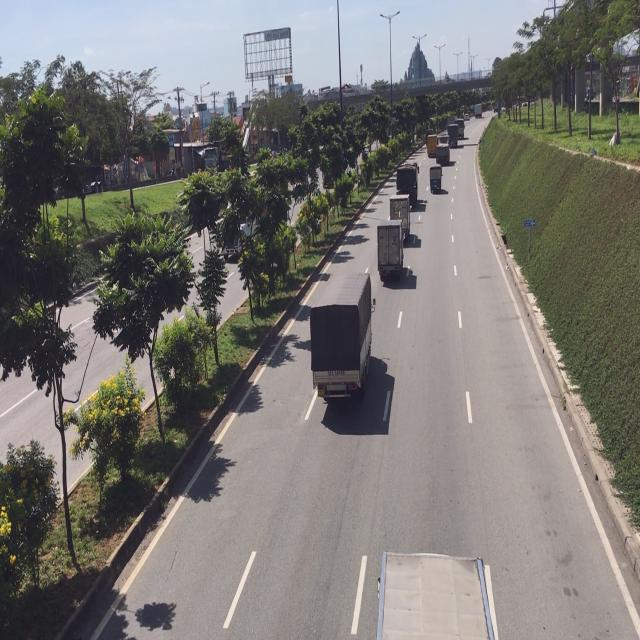truck: (376, 544, 496, 638), (312, 271, 374, 407), (377, 218, 404, 284), (396, 160, 418, 206), (390, 193, 410, 234), (428, 163, 440, 196)
